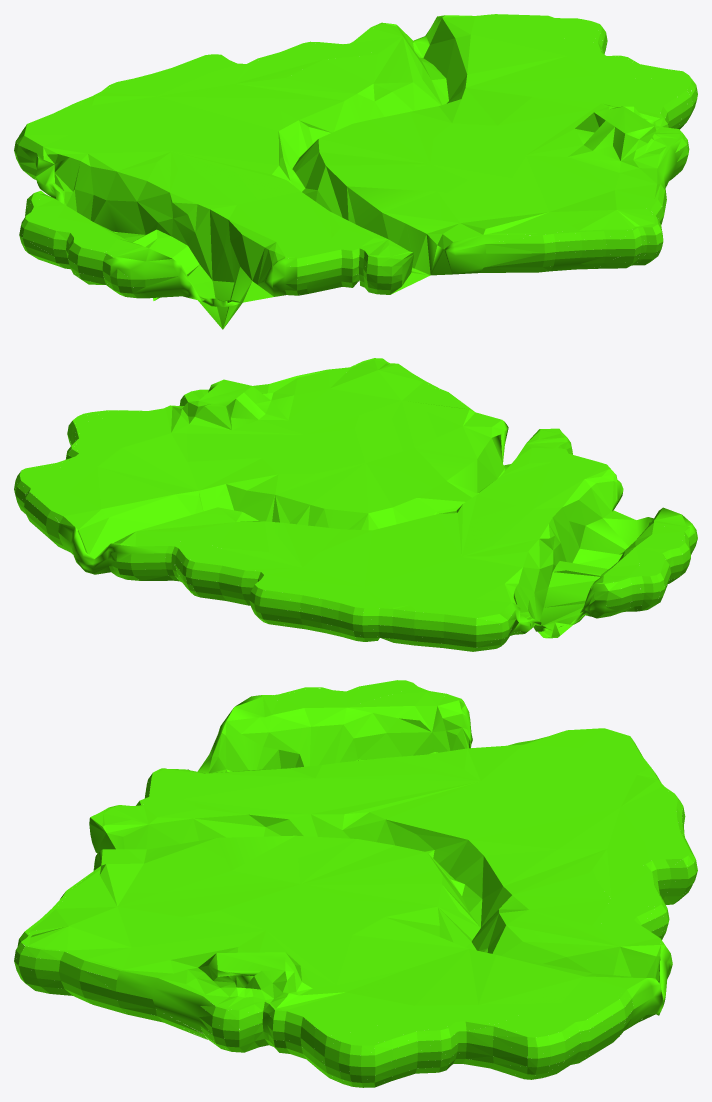
Rendered from Map-v0.2.3.glb.
The picture shows the model from 3 angles, top to bottom: view 1: azimuth 30°, elevation 25°; view 2: azimuth 150°, elevation 25°; view 3: azimuth 270°, elevation 25°; orthographic projection. The views are drawn at different scales.
Parts seen in each view (by area): view 1: SM_FloatingIsland_S_2_StaticMeshComponent0; view 2: SM_FloatingIsland_S_2_StaticMeshComponent0; view 3: SM_FloatingIsland_S_2_StaticMeshComponent0.
Part boxes in pixels (x1,y1,x2,y2): SM_FloatingIsland_S_2_StaticMeshComponent0: [14, 14, 697, 329]; SM_FloatingIsland_S_2_StaticMeshComponent0: [14, 358, 697, 651]; SM_FloatingIsland_S_2_StaticMeshComponent0: [14, 680, 697, 1087].
Bounding box in the file's own units: 527 × 69.74 × 410.
